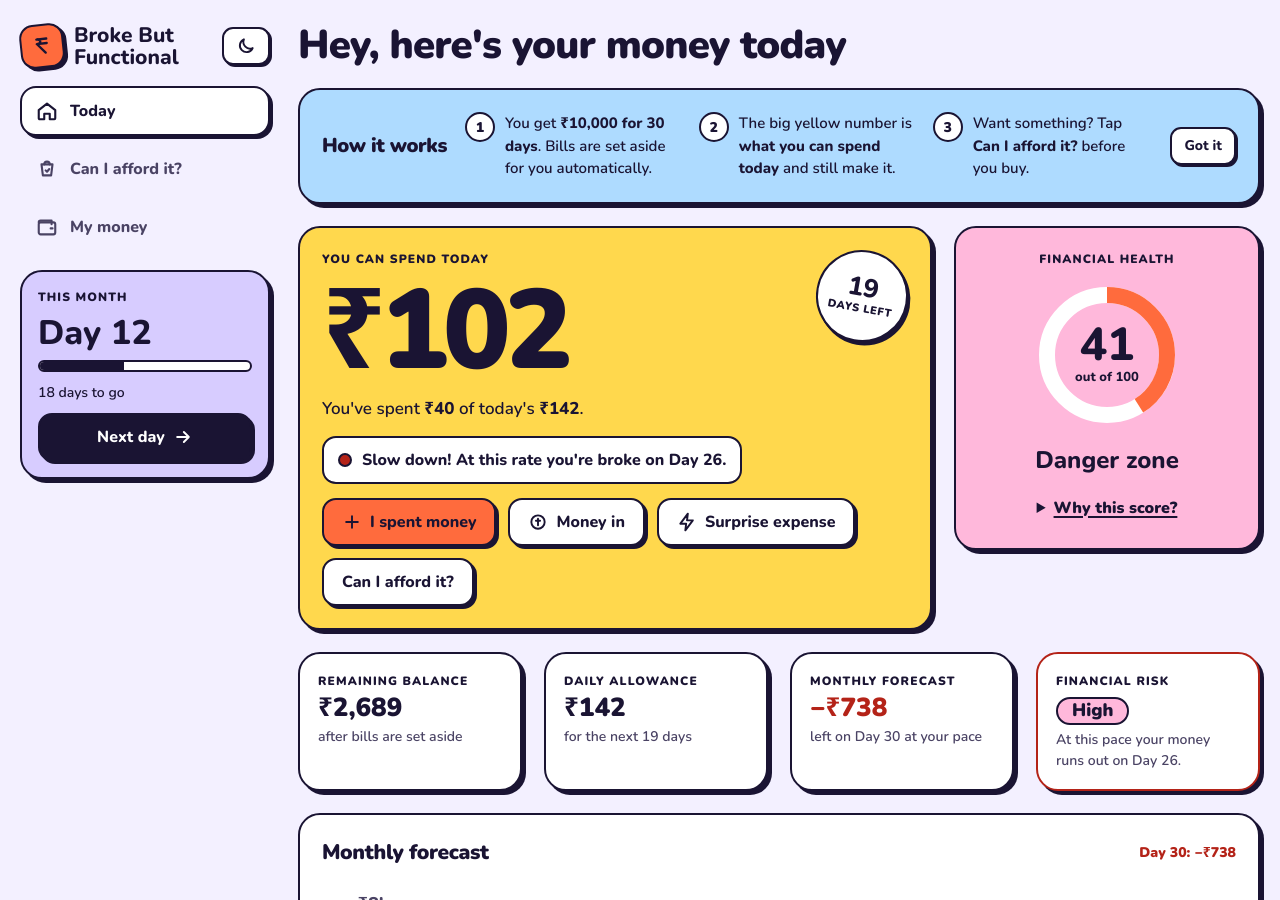
Test: Today › logs a spend, updates the allowance everywhere, and can undo it
Click the button "I spent money": (409, 522) [322,498,496,546]
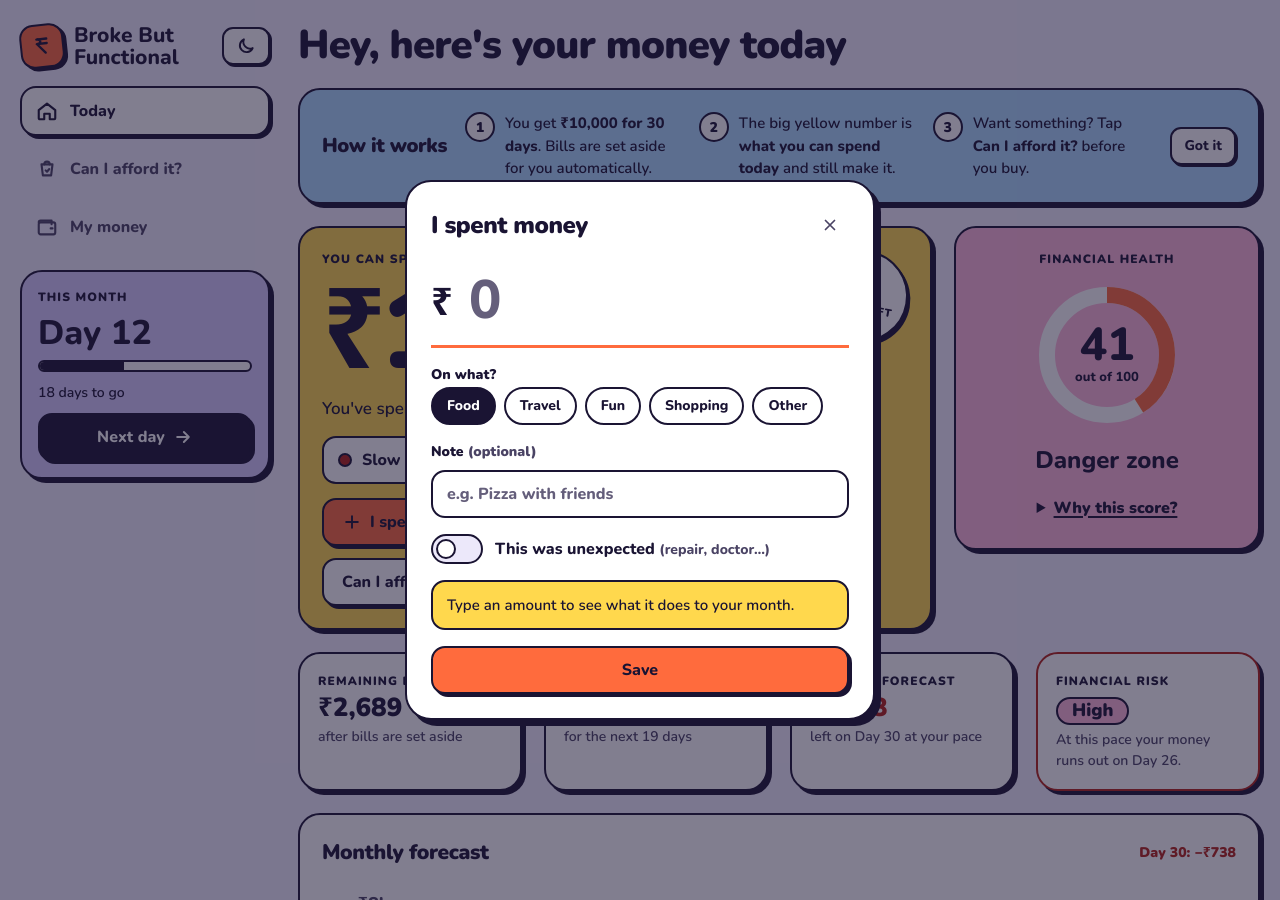
In the field named "Amount in rupees": (640, 302) [431,260,849,345], type "50"
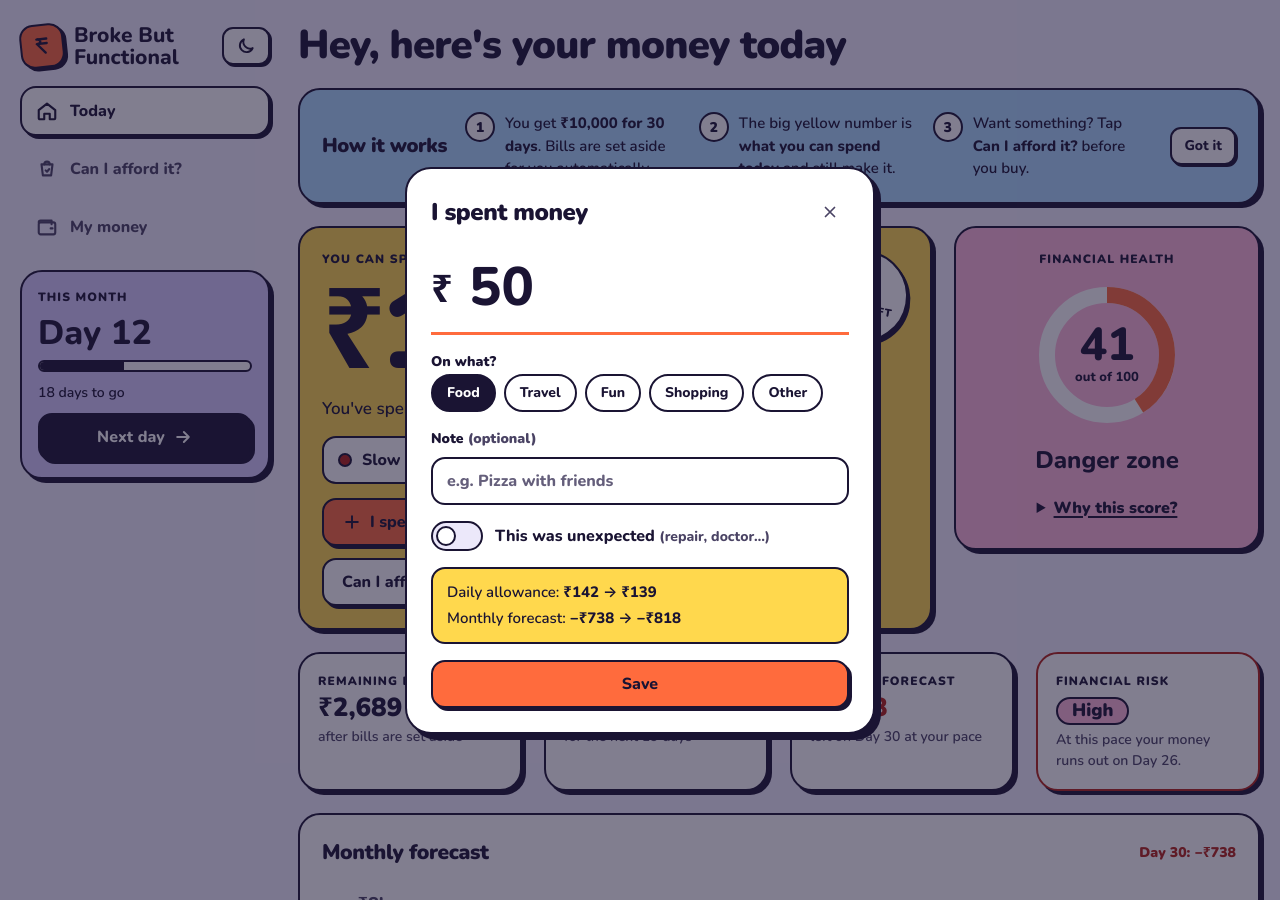
Check: the text "Daily allowance: ₹142 → ₹139" is shown, box [447,582,657,602]
Click the button "Save": (640, 684) [431,660,849,708]
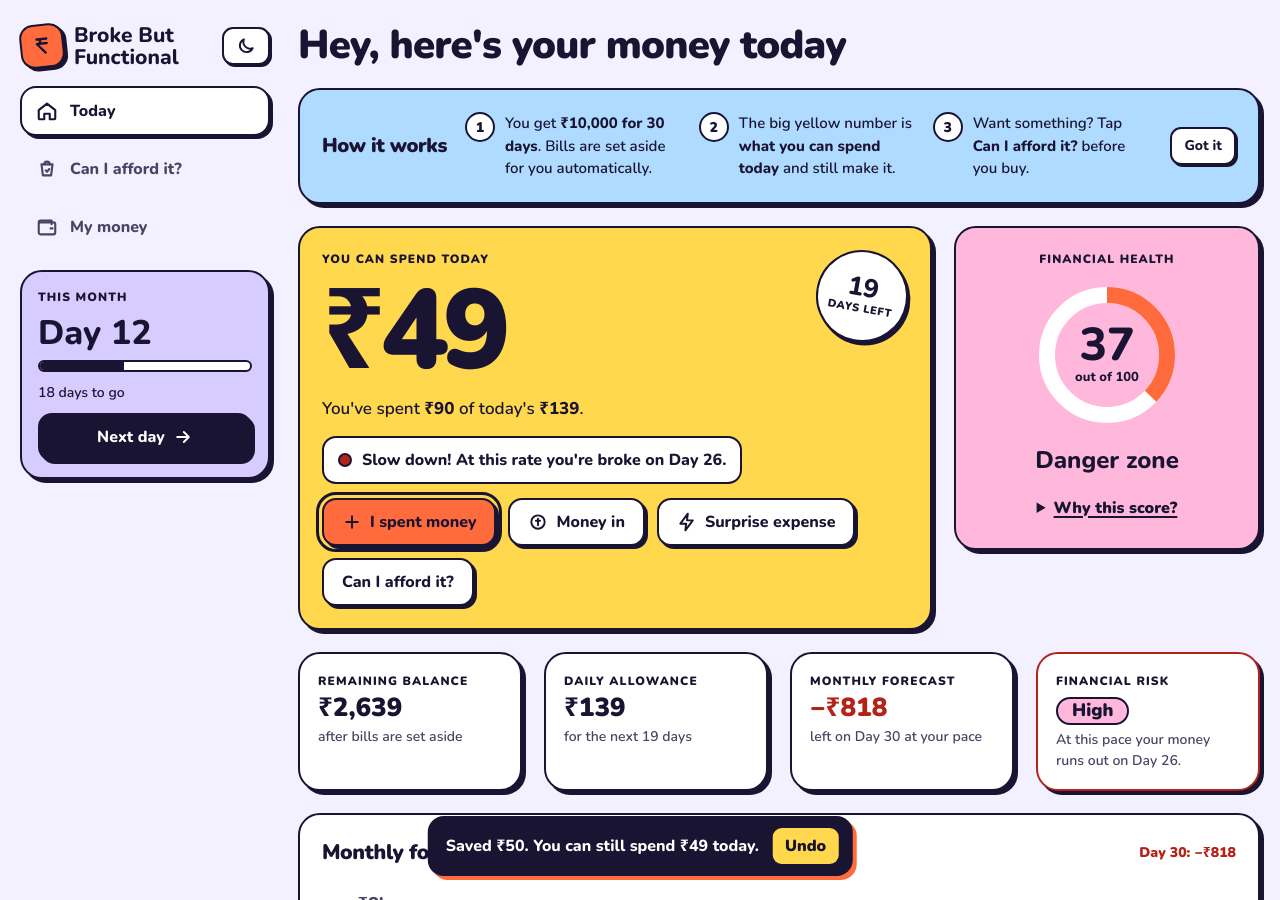
Check: the dialog is gone
Check: the message shows "Saved ₹50", box [446,835,759,857]
Check: the text with test id "today-allowance" reads "₹49", box [322,254,505,408]
Click the button "Undo": (806, 846) [773,828,838,864]
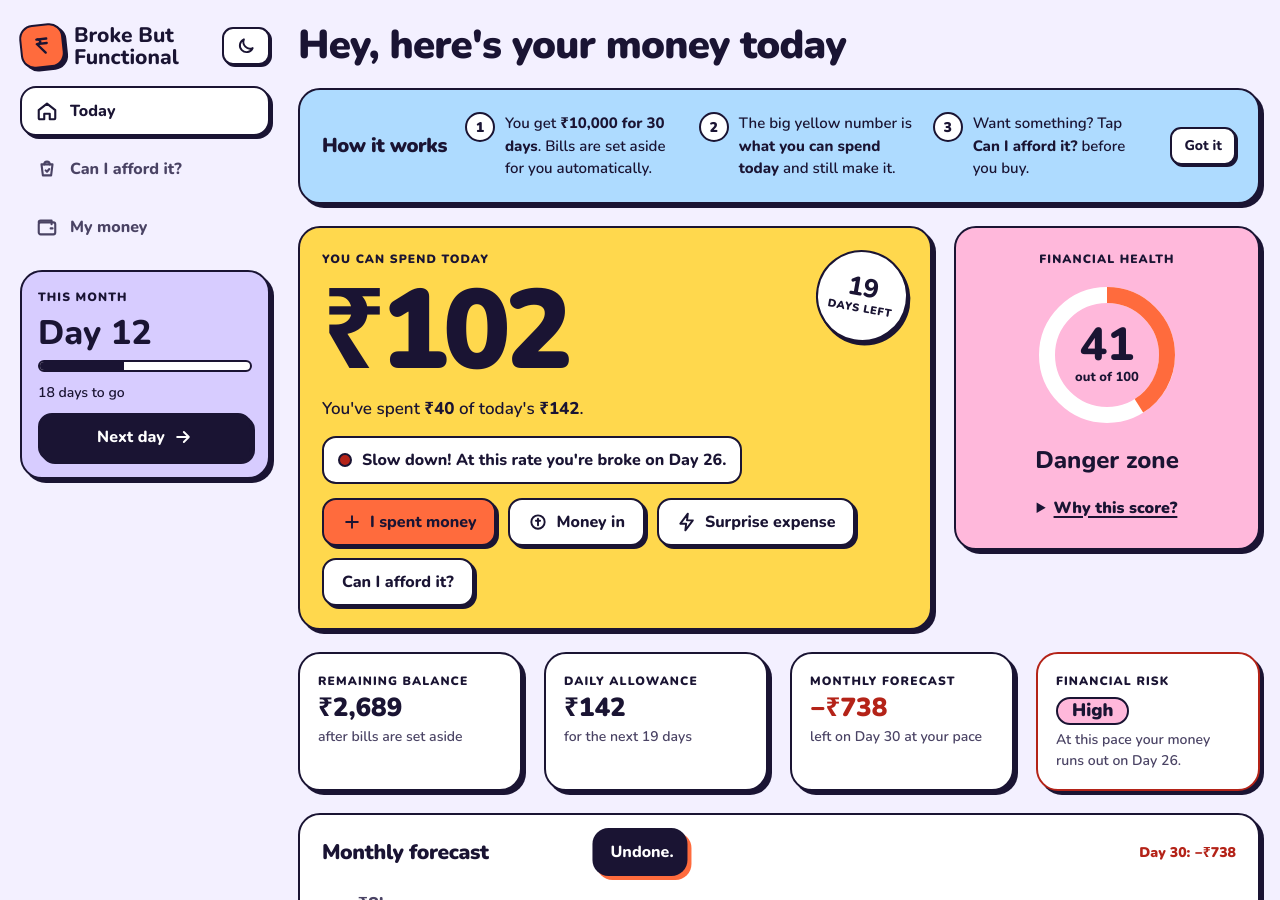
Check: the text with test id "today-allowance" reads "₹102", box [322,254,568,408]
